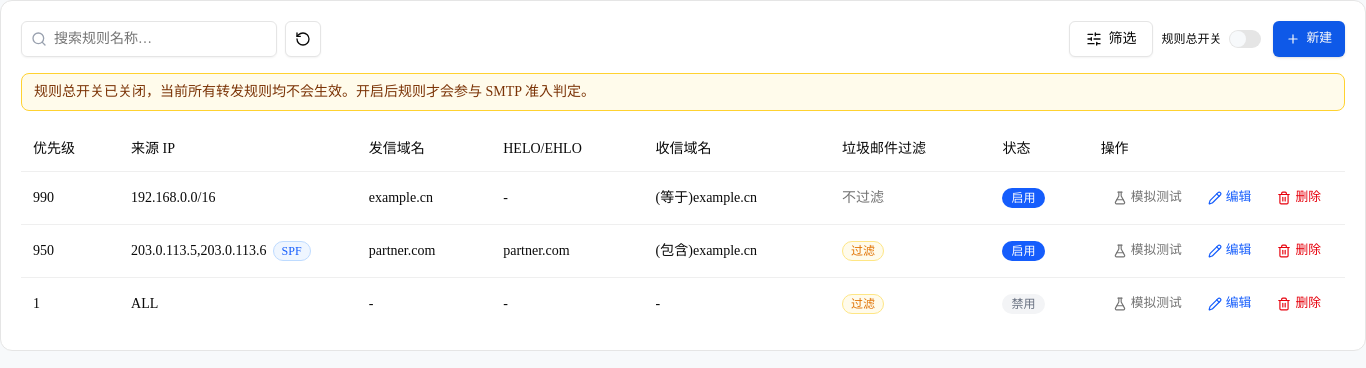
Test: RelayTab › shows the default-off gate and lets a system admin enable it from the rules page
Expected: the text with test id "mr-relay-master-switch-off" shows "规则总开关已关闭，当前所有转发规则均不会生效", [34,84,595,99]
Click the switch with test id "mr-relay-master-switch" at (1245, 39), box [1229,30,1261,48]
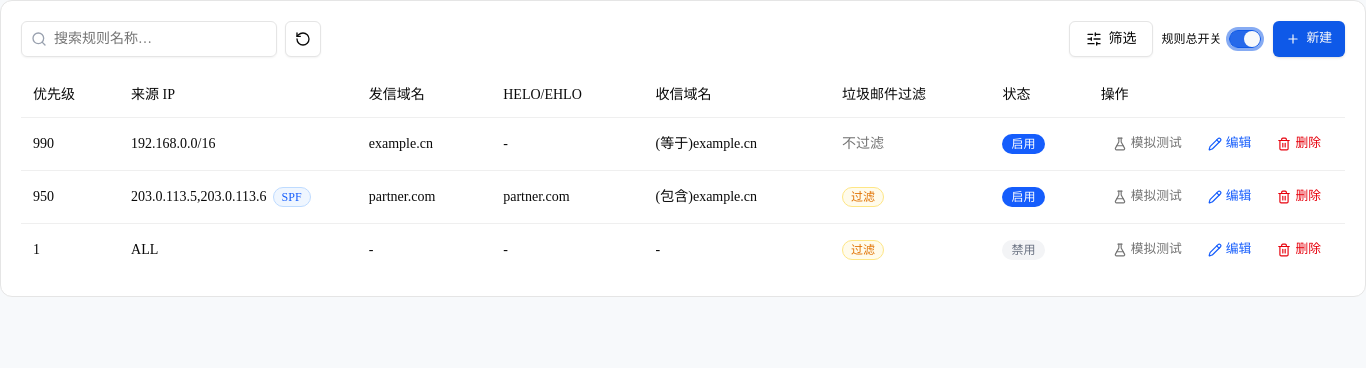
Now the text with test id "mr-relay-master-switch-off" is gone
